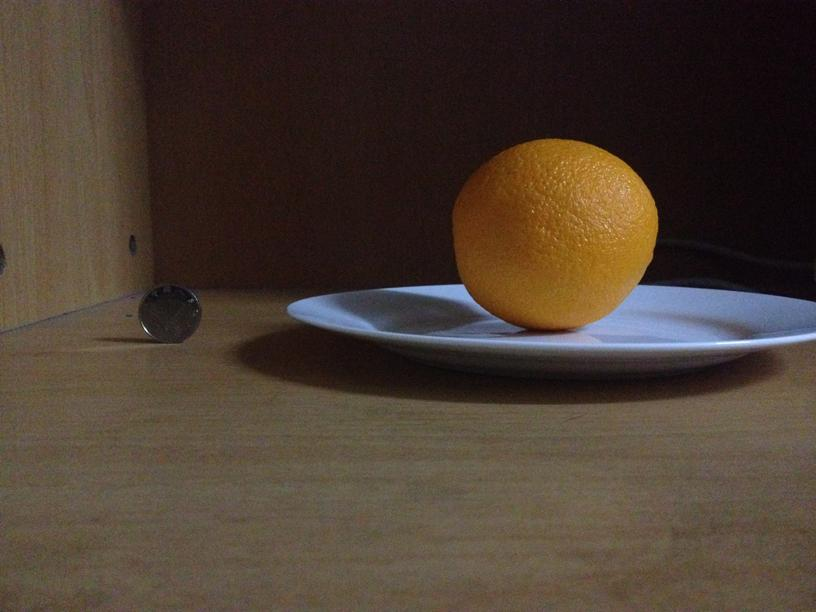coin: (137, 282, 201, 342)
orange: (447, 135, 656, 325)
